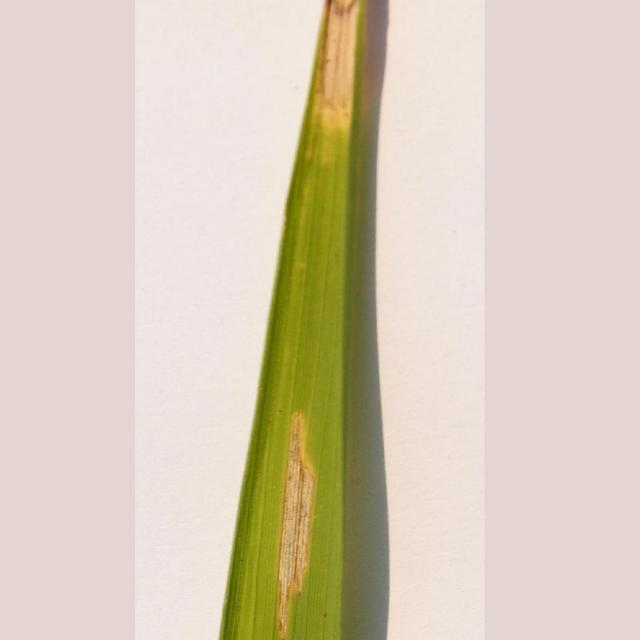leaf blight: (292, 1, 386, 166), (267, 406, 328, 639)
